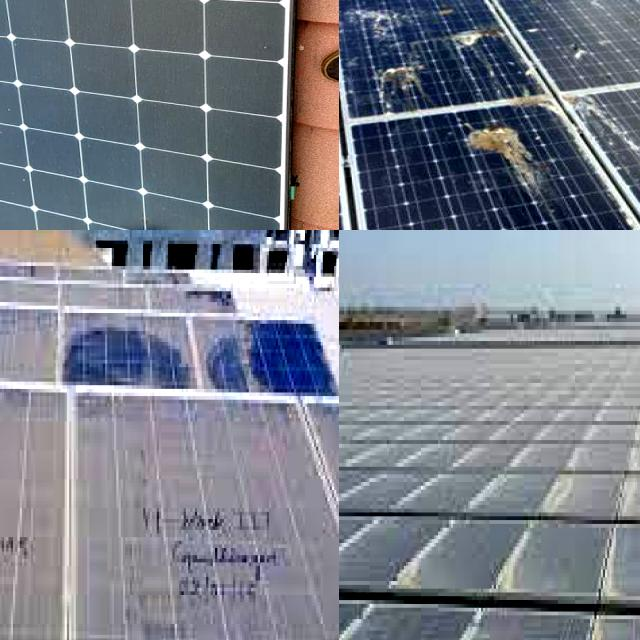bird: (447, 124, 557, 194), (445, 15, 528, 66), (368, 63, 442, 107), (346, 5, 410, 42), (580, 0, 634, 21), (411, 224, 472, 230)
dust: (207, 0, 273, 230), (0, 389, 64, 625), (0, 100, 101, 230), (366, 482, 466, 611), (0, 404, 62, 607), (84, 485, 163, 640), (215, 414, 306, 512), (172, 479, 227, 640), (58, 322, 184, 392), (0, 0, 83, 101), (86, 404, 198, 476), (270, 529, 330, 640), (489, 504, 564, 592), (191, 312, 272, 392), (0, 298, 82, 376), (581, 500, 640, 599), (143, 0, 200, 102), (144, 136, 202, 230), (0, 384, 21, 618), (0, 0, 124, 35), (137, 0, 200, 63), (0, 316, 59, 375), (125, 0, 197, 30)
